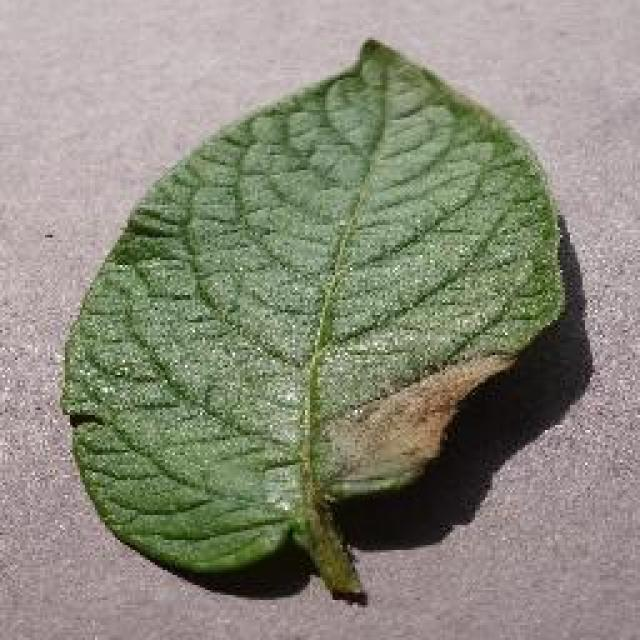late_blight: (55, 33, 570, 595)
